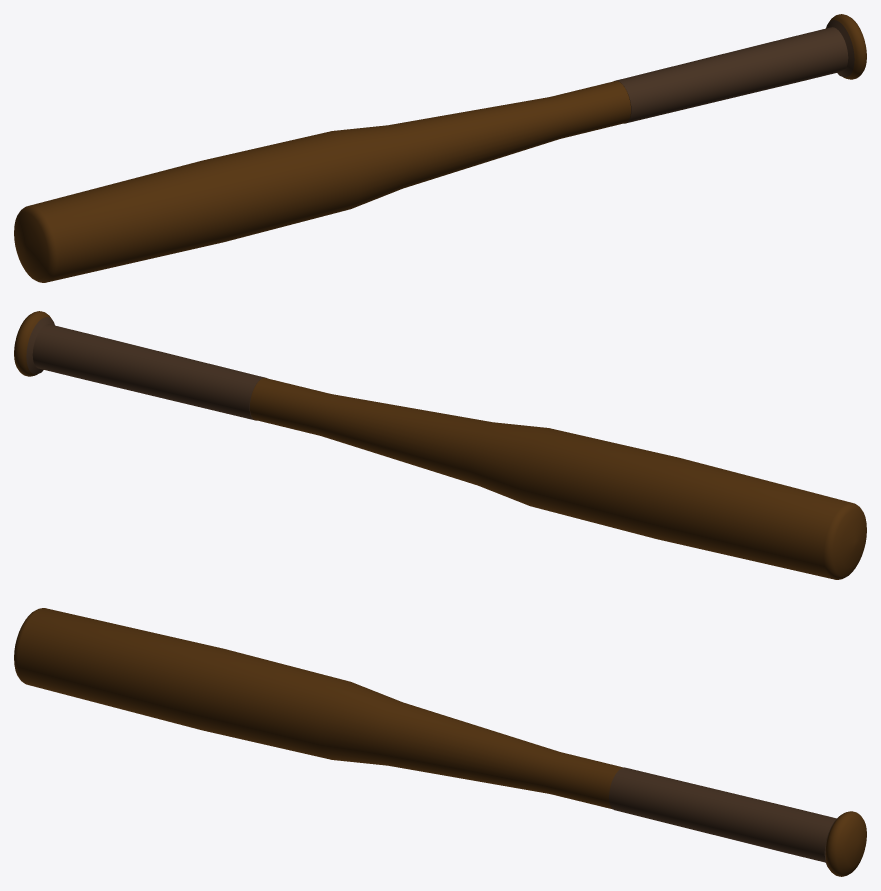
The model's file is Baseball bat.fbx.
The picture shows the model from 3 angles, top to bottom: view 1: azimuth 30°, elevation 25°; view 2: azimuth 150°, elevation 25°; view 3: azimuth 330°, elevation 25°; orthographic projection.
Visible parts, largest first — view 1: Cylinder, Cylinder.001; view 2: Cylinder, Cylinder.001; view 3: Cylinder, Cylinder.001.
Part boxes in pixels (x1,y1,x2,y2): Cylinder: (14,14,866,282); Cylinder.001: (614,20,854,123); Cylinder: (14,311,866,579); Cylinder.001: (26,317,266,420); Cylinder: (14,608,866,876); Cylinder.001: (609,767,839,867).
Size of the model in its own units: 445 by 39.23 by 39.23.
